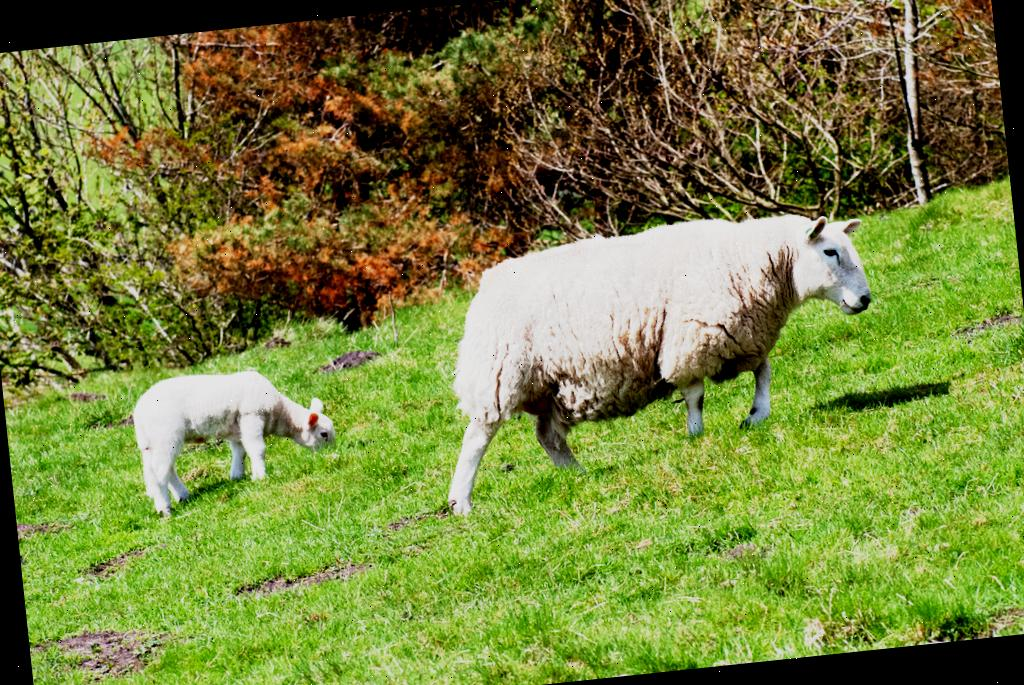Sheep: (418, 201, 892, 517), (130, 358, 340, 519)
